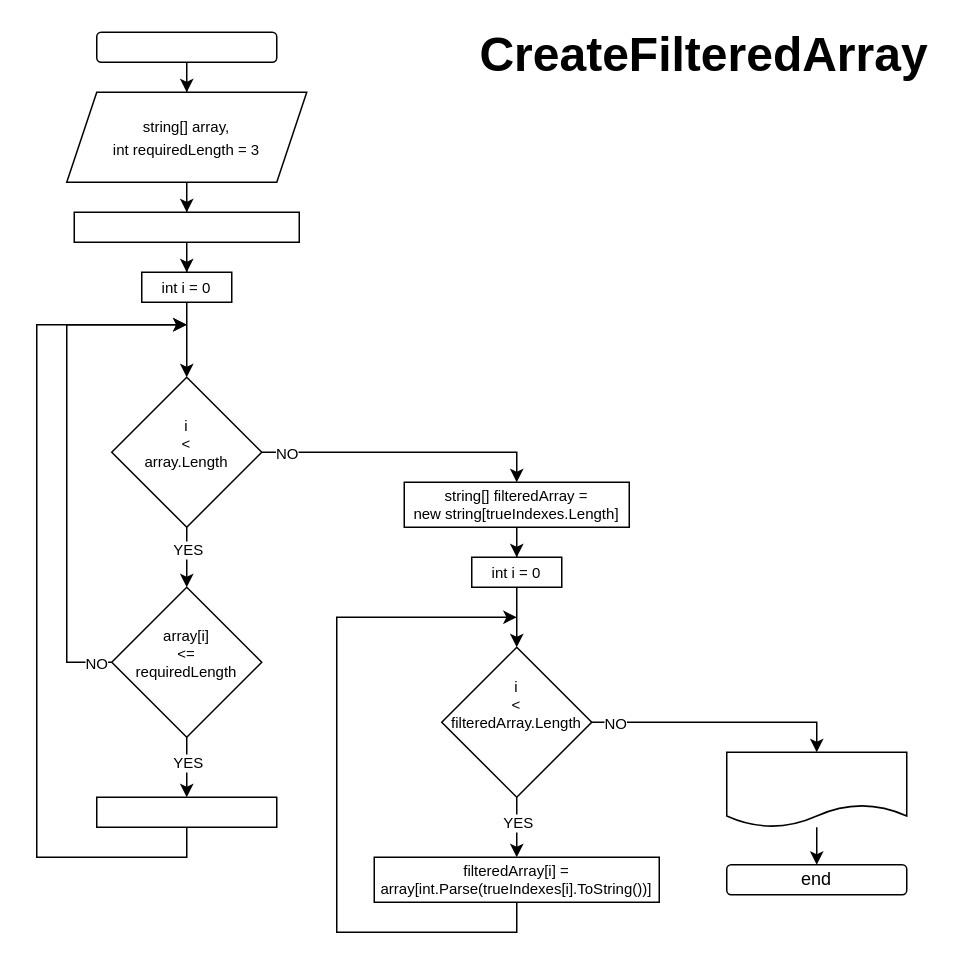
Image size: 954x971. Some labels were removed from this diagram. Each missing label, with the box of its shape:
return filteredArray: (725, 751, 907, 827)
start: (95, 31, 277, 62)
string trueIndexes = string.Empty: (73, 211, 299, 242)
trueIndexes += i.ToString(): (95, 796, 277, 827)
